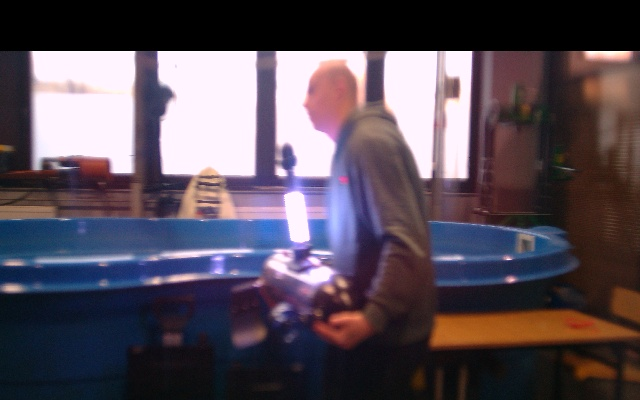white: (283, 191, 310, 243)
